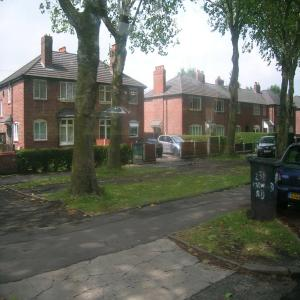Vehicle-registration-plate: (289, 193, 300, 202), (265, 151, 272, 153)
